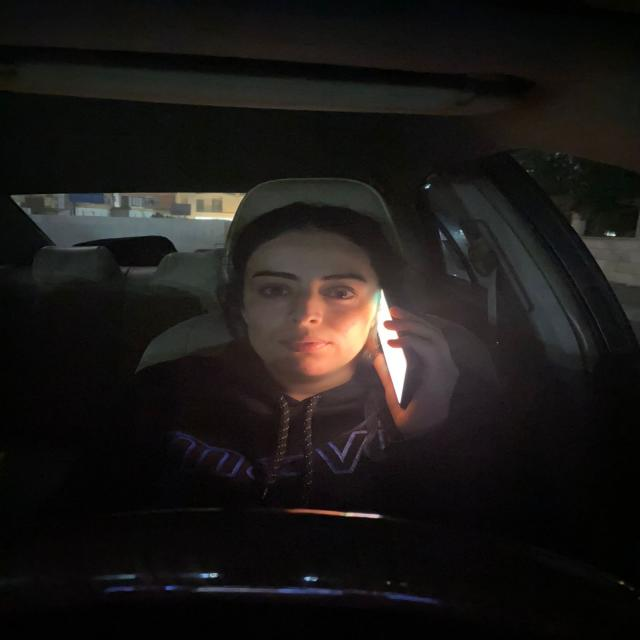mobile: (374, 300, 429, 412)
person: (242, 207, 368, 372)
